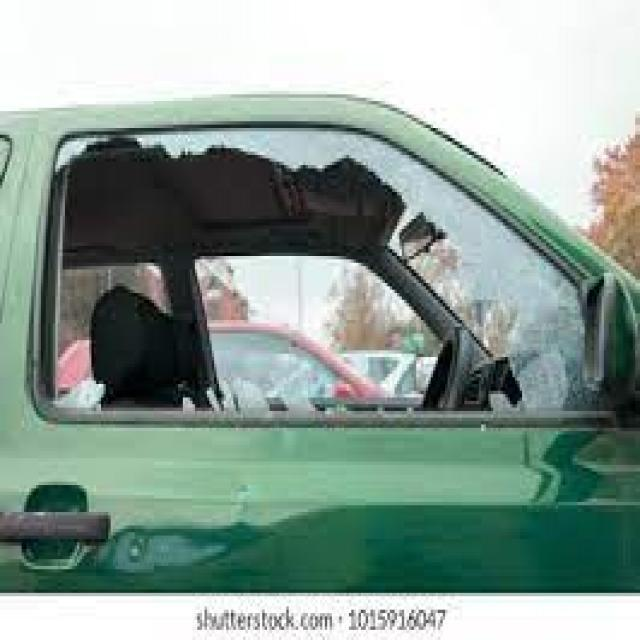damaged-window: (38, 125, 620, 432)
